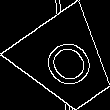O_SE: (32, 29, 100, 96)
